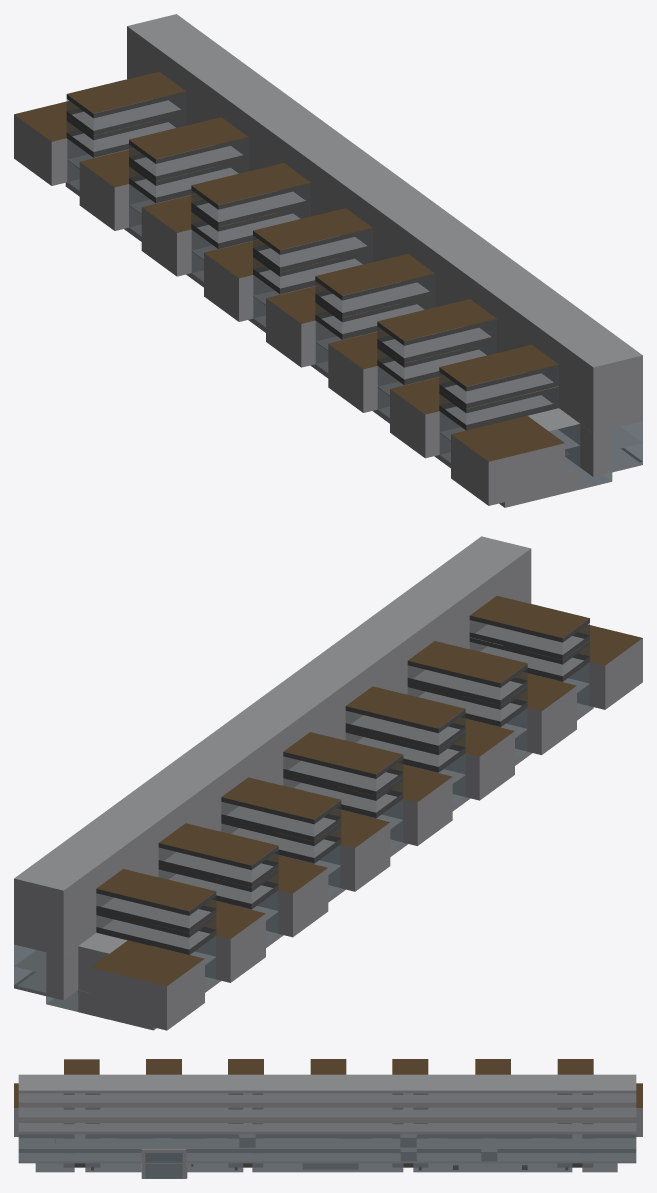
File: Per21.glb
3 renders of one model, top to bottom at view 1: azimuth 30°, elevation 25°; view 2: azimuth 150°, elevation 25°; view 3: azimuth 270°, elevation 25°, orthographic. The views are drawn at different scales.
Visible parts, largest first — view 1: Hall and offices (5), A120, Hall and offices (4), G4, C4, D4, E4, F4, B4, A4, G140, G120 (+26 smaller); view 2: Hall and offices (5), G140, Hall and offices (4), D4, E4, G4, C4, F4, B4, A4, A120, G3 (+26 smaller); view 3: Hall and offices (5), Hall and offices (3), Study room (1), Hall and offices (4), Study room (2), Front hall (0), LearningLab, Main entrance, B207, F205, F207, B205 (+21 smaller).
Boxes of the visible parts, box(x1,y1,x2,y2) form: Hall and offices (5): box(127, 14, 642, 389); A120: box(451, 415, 564, 505); Hall and offices (4): box(127, 48, 642, 411); G4: box(66, 71, 186, 135); C4: box(315, 254, 435, 317); D4: box(253, 208, 372, 271); E4: box(191, 163, 310, 226); F4: box(129, 117, 248, 180); B4: box(377, 299, 496, 362); A4: box(439, 345, 558, 408); G140: box(14, 101, 87, 185); G120: box(79, 148, 149, 230); Hall and offices (5): box(14, 536, 531, 912); G140: box(90, 940, 204, 1030); Hall and offices (4): box(14, 571, 531, 934); D4: box(283, 732, 403, 796); E4: box(221, 777, 341, 841); G4: box(96, 869, 216, 932); C4: box(345, 686, 465, 750); F4: box(158, 823, 278, 887); B4: box(407, 641, 527, 704); A4: box(469, 596, 589, 659); A120: box(577, 624, 642, 709); G3: box(96, 897, 216, 954); Hall and offices (5): box(18, 1074, 636, 1105); Hall and offices (3): box(18, 1107, 636, 1134); Study room (1): box(18, 1138, 636, 1163); Hall and offices (4): box(18, 1093, 636, 1119); Study room (2): box(204, 1124, 636, 1148); Front hall (0): box(35, 1163, 617, 1172); LearningLab: box(18, 1124, 121, 1148); Main entrance: box(141, 1149, 187, 1178); B207: box(166, 1124, 204, 1148); F205: box(451, 1124, 488, 1148); F207: box(498, 1124, 535, 1148); B205: box(121, 1124, 157, 1148).
Size of what is drawn, in the model's own units: 15.26 by 12.04 by 78.48.
